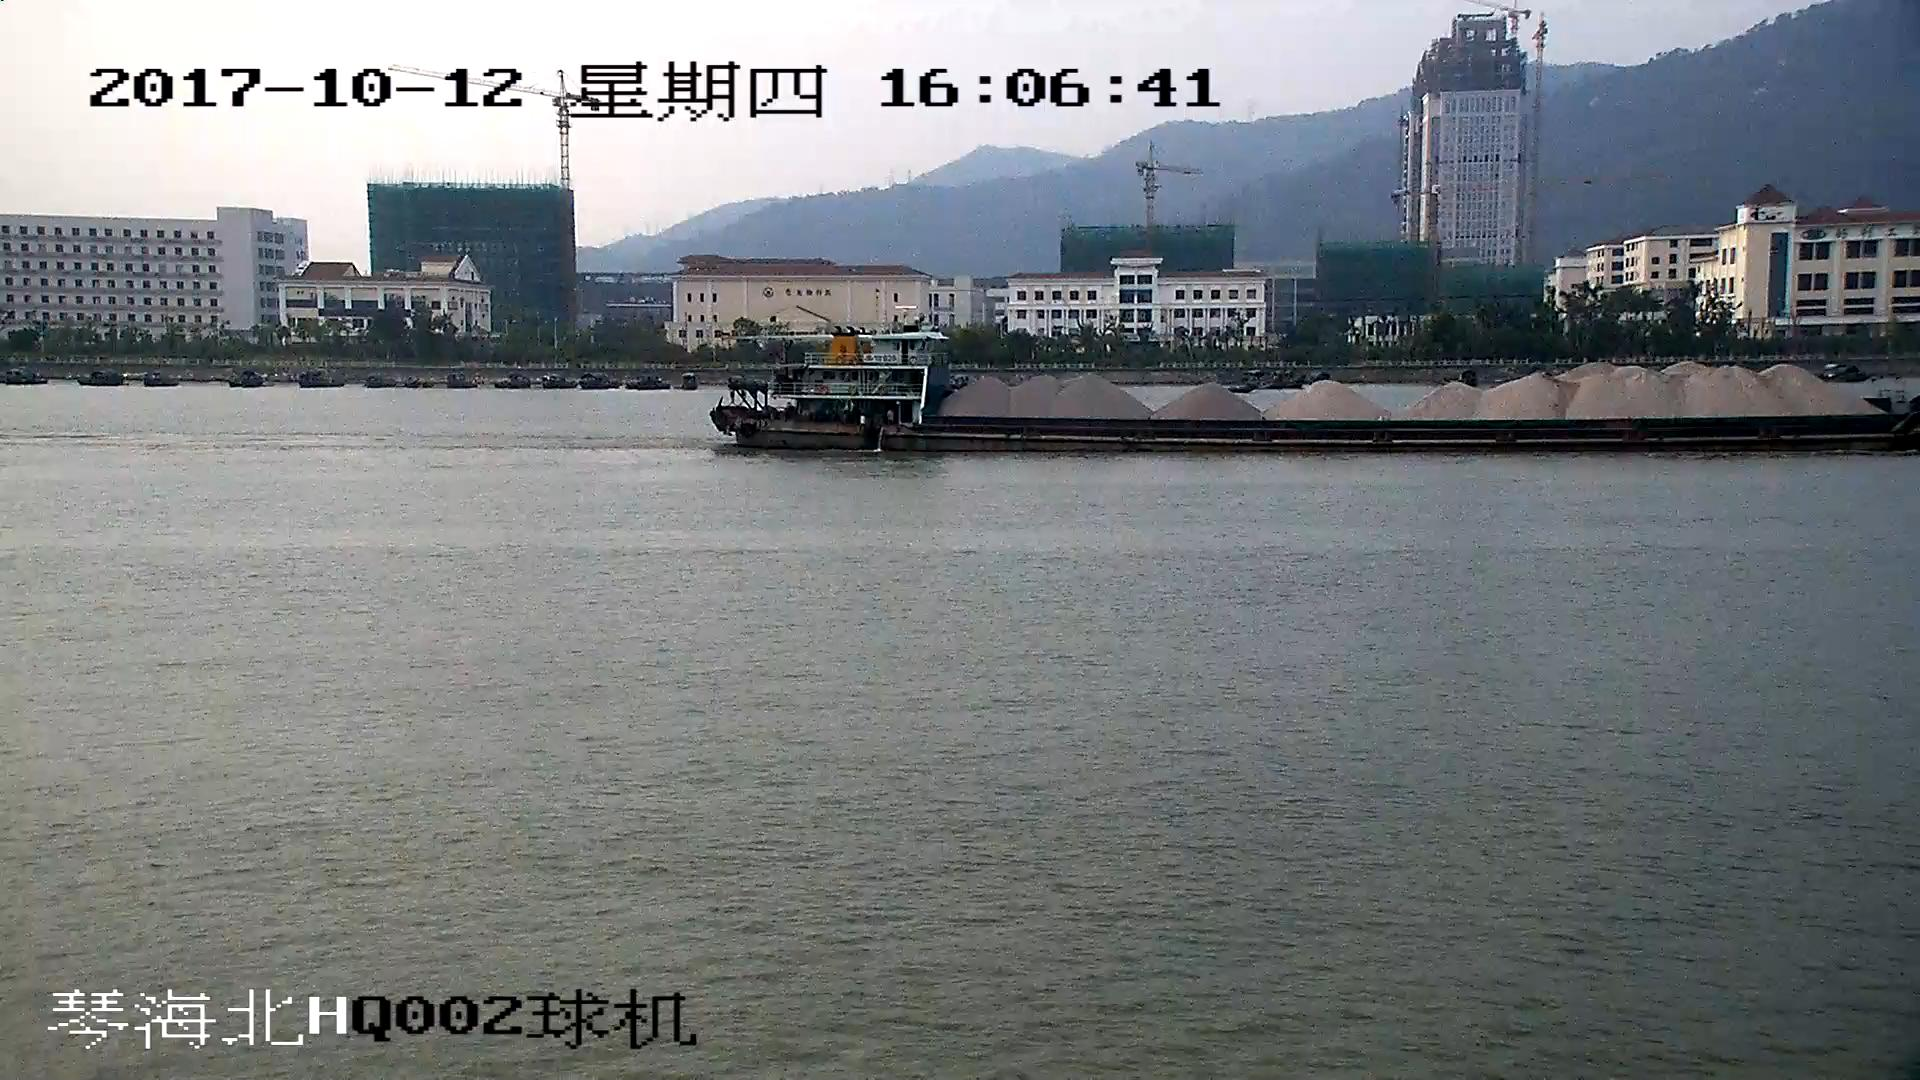ore carrier: (714, 329, 1920, 456)
